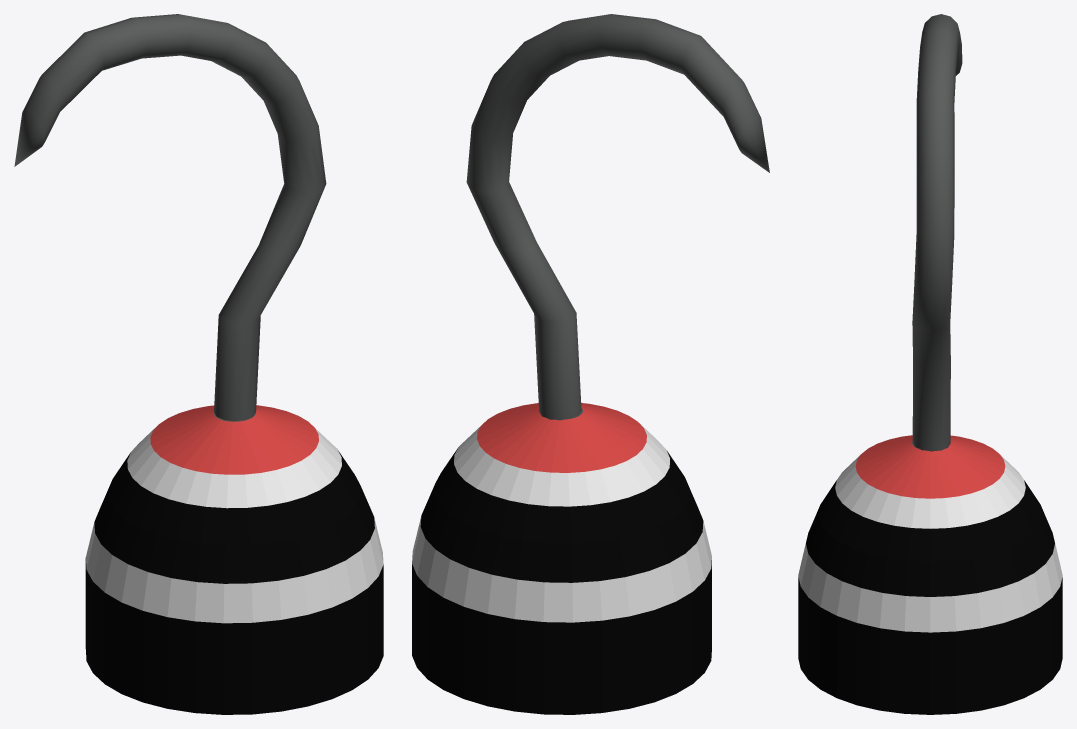
File: hook.fbx
The picture shows the model from 3 angles, left to right: view 1: azimuth 30°, elevation 25°; view 2: azimuth 150°, elevation 25°; view 3: azimuth 270°, elevation 25°; orthographic projection. The views are drawn at different scales.
Visible parts, largest first — view 1: Sphere; view 2: Sphere; view 3: Sphere.
Boxes of the visible parts, bbox=[...] form: Sphere: bbox=[14, 14, 383, 714]; Sphere: bbox=[412, 14, 769, 714]; Sphere: bbox=[798, 14, 1062, 714].
Size of the model in its own units: 117 by 212 by 86.62.
